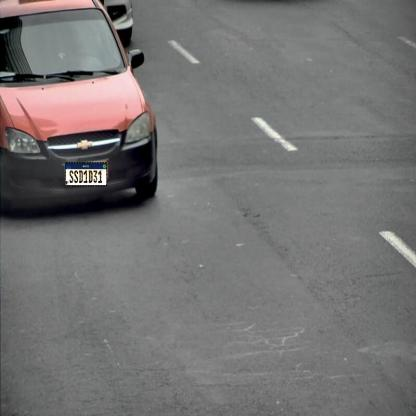PlacaM: (65, 162, 107, 187)
